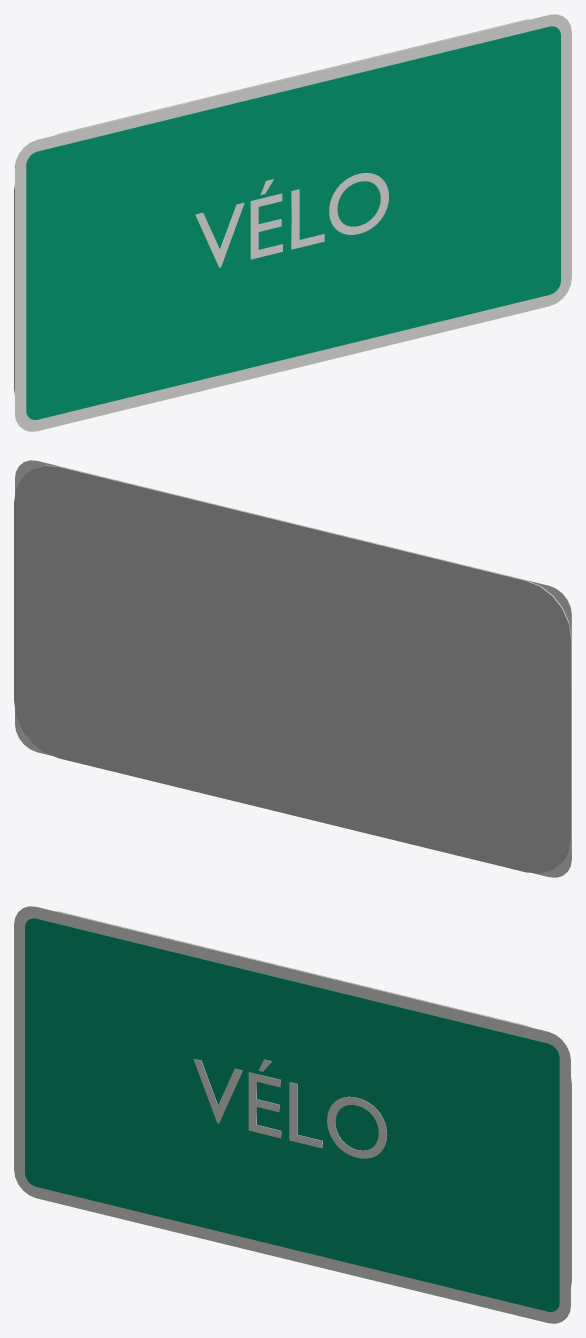
3 views of the same model, one above another, from view 1: azimuth 30°, elevation 25°; view 2: azimuth 150°, elevation 25°; view 3: azimuth 330°, elevation 25° (orthographic).
Visible parts, largest first — view 1: Dv44_fond01, Dv44_cadre00, Dv44_txt02, Dv44_dos; view 2: Dv44_dos, Dv44_cadre00; view 3: Dv44_fond01, Dv44_cadre00, Dv44_txt02, Dv44_dos.
Boxes of the visible parts, <box> form: Dv44_fond01: <box>26,26,560,419</box>; Dv44_cadre00: <box>15,14,571,431</box>; Dv44_txt02: <box>195,173,388,267</box>; Dv44_dos: <box>14,19,529,394</box>; Dv44_dos: <box>14,465,571,873</box>; Dv44_cadre00: <box>15,460,571,877</box>; Dv44_fond01: <box>25,918,559,1311</box>; Dv44_cadre00: <box>14,906,570,1323</box>; Dv44_txt02: <box>193,1058,387,1158</box>; Dv44_dos: <box>56,911,571,1286</box>.
Bounding box in the file's own units: 0.5 × 0.25 × 0.0025.
